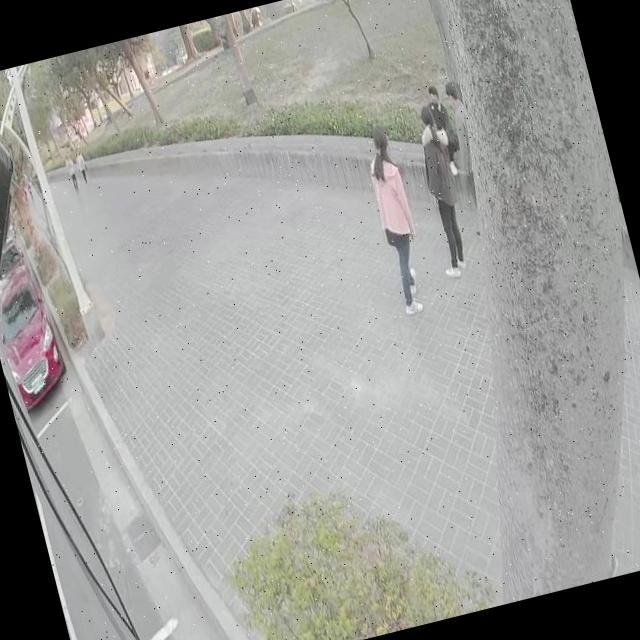person: (357, 118, 434, 314), (408, 100, 478, 274), (442, 84, 486, 192), (424, 82, 464, 172), (62, 147, 81, 190), (74, 143, 90, 184)
